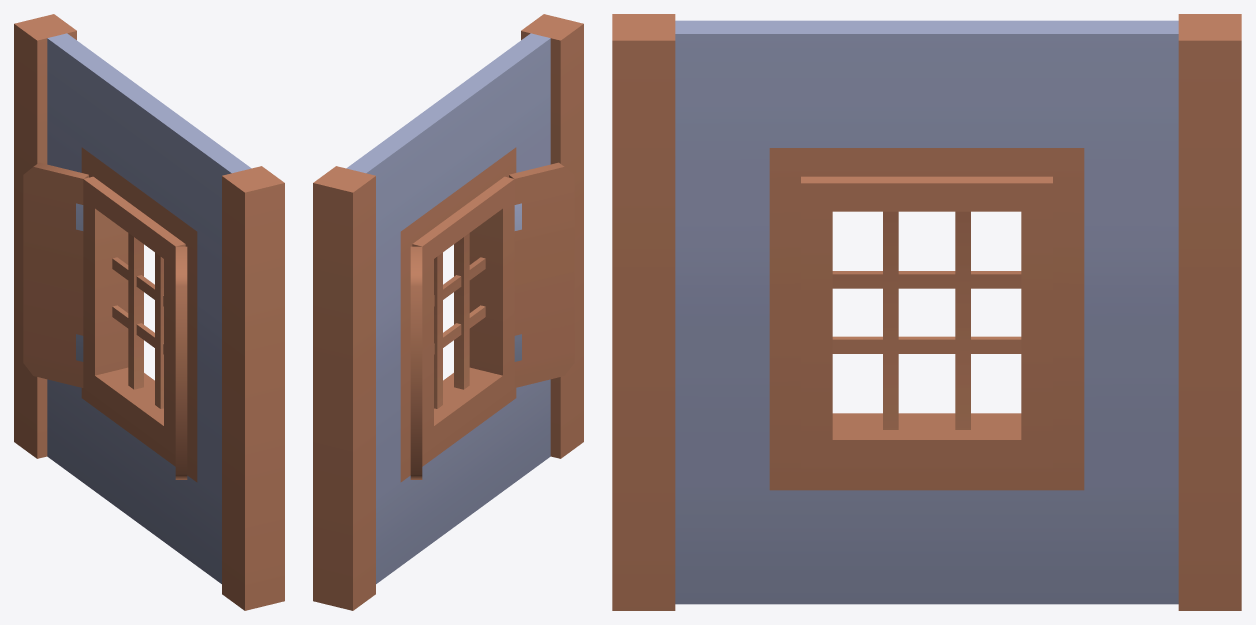
The model's file is ot-wall-window-shutters.glb.
3 renders of one model, left to right at view 1: azimuth 30°, elevation 25°; view 2: azimuth 150°, elevation 25°; view 3: azimuth 270°, elevation 25°, orthographic. The views are drawn at different scales.
Parts seen in each view (by area): view 1: wall-window-shutters; view 2: wall-window-shutters; view 3: wall-window-shutters.
Boxes of the visible parts, x1=… form: wall-window-shutters: x1=14, y1=14, x2=284, y2=610; wall-window-shutters: x1=313, y1=14, x2=583, y2=610; wall-window-shutters: x1=612, y1=14, x2=1241, y2=610.
Bounding box in the file's own units: 0.1749 × 1 × 1.
1 material, 1 textured.
